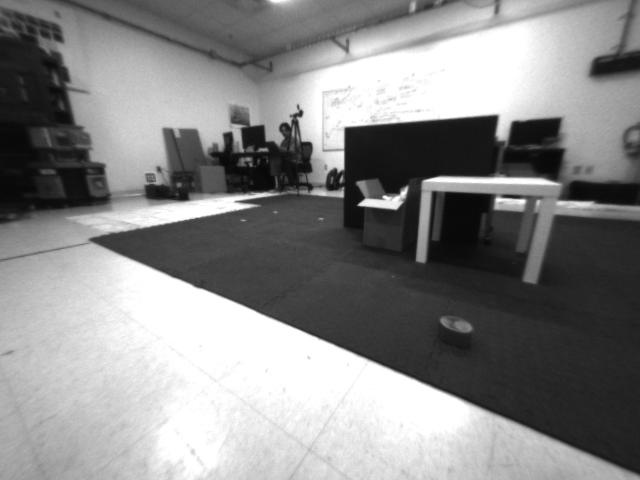dogtoy: (422, 301, 484, 365)
